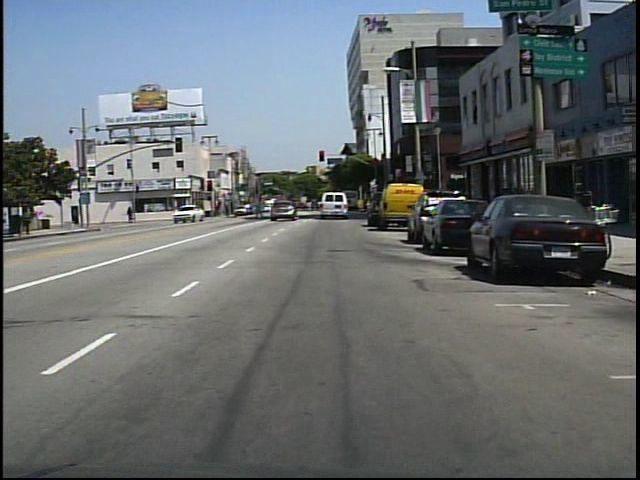person: (254, 192, 271, 222), (128, 205, 136, 223)
